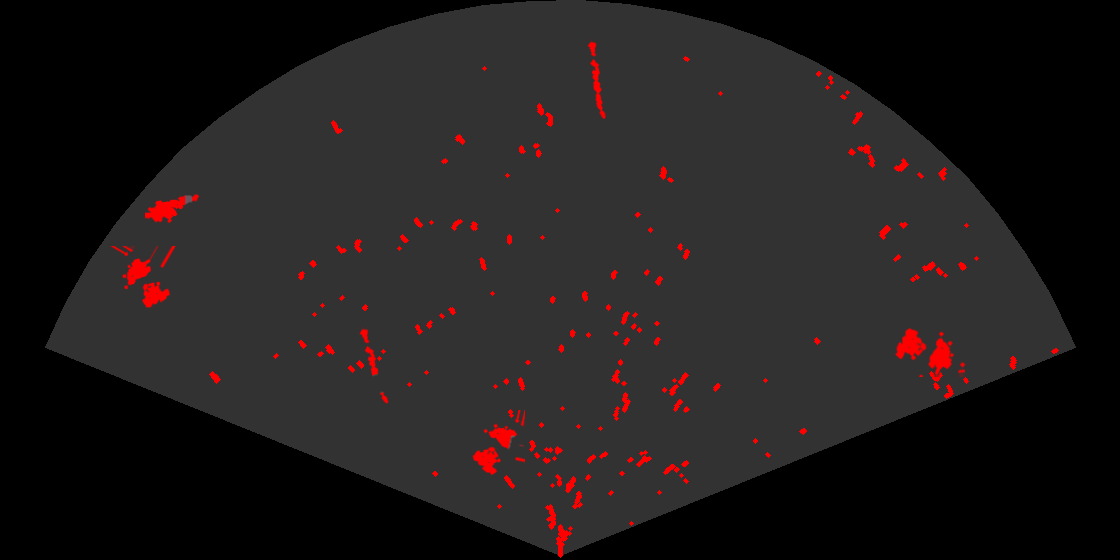cage: (109, 246, 177, 309), (471, 410, 525, 477), (893, 327, 965, 377)
chain: (358, 326, 390, 406), (586, 39, 607, 121)
frogman: (145, 193, 199, 225)
